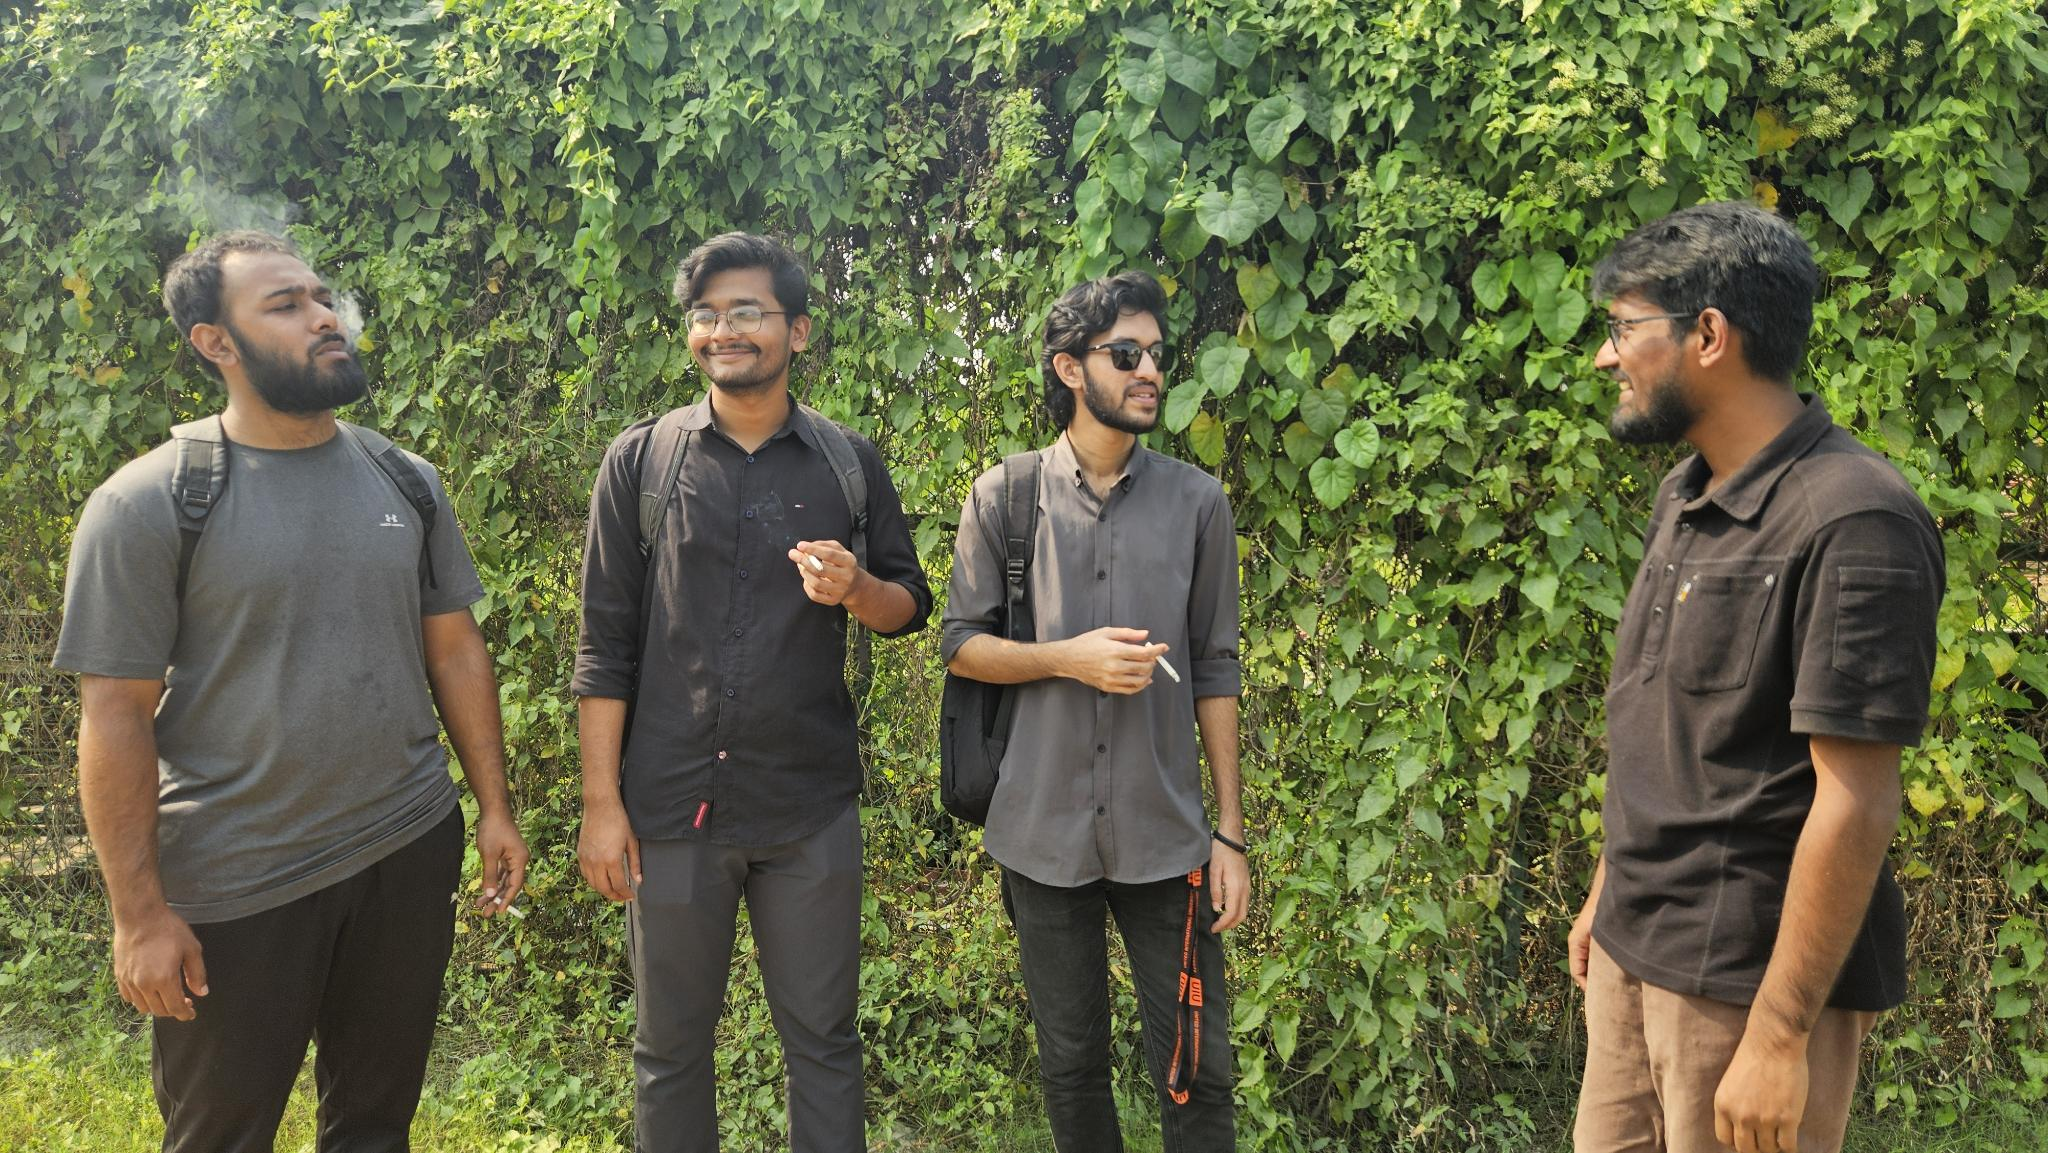cigarette: (1144, 641, 1182, 683), (492, 896, 526, 921), (803, 551, 824, 572)
nonSmoker: (1567, 201, 1947, 1153)
smoker: (51, 231, 529, 1153), (571, 231, 934, 1153), (940, 270, 1250, 1153)
